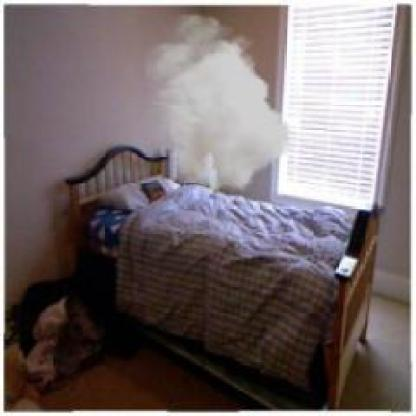Smoke: (146, 15, 289, 193)
